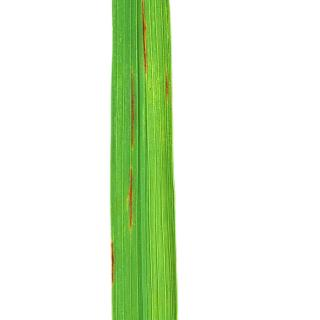Bercak-Cokelat-Sempit: (134, 2, 152, 76), (128, 62, 141, 150), (126, 166, 139, 227), (161, 66, 171, 104)
